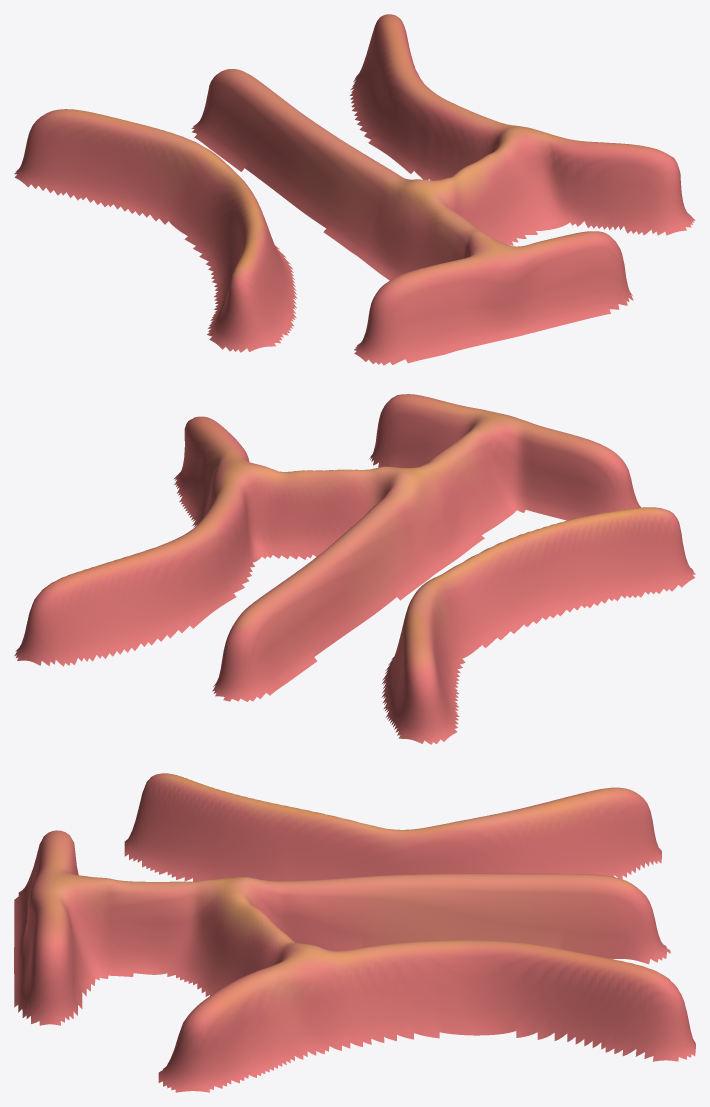
The model's file is cave_gliph_2.fbx.
3 views of the same model, one above another, from view 1: azimuth 30°, elevation 25°; view 2: azimuth 150°, elevation 25°; view 3: azimuth 270°, elevation 25° (orthographic). The views are drawn at different scales.
Visible parts, largest first — view 1: gliph_2; view 2: gliph_2; view 3: gliph_2.
Part boxes in pixels (x1,y1,x2,y2): gliph_2: (14, 14, 695, 365); gliph_2: (14, 394, 695, 744); gliph_2: (14, 773, 695, 1092).
Bounding box in the file's own units: 144 × 21.75 × 160.
1 material, 1 textured.
